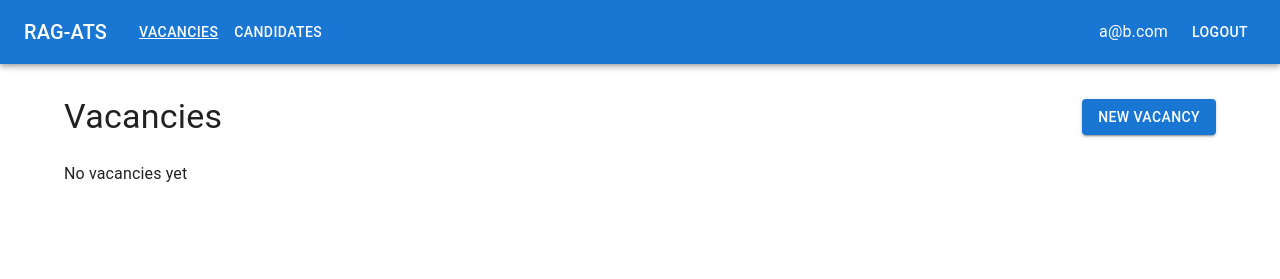
Test: AppLayout › navigates to candidates when the nav link is clicked
What coordinates should you click on to do the following:
click the link "Candidates"
I would click on:
 (278, 32)
Its box is [234, 24, 322, 40].
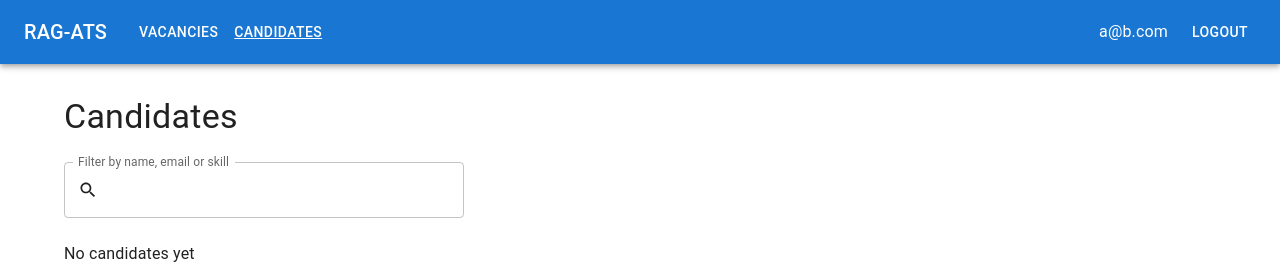
Result: the heading "Candidates" is shown at [64, 96, 238, 138]
